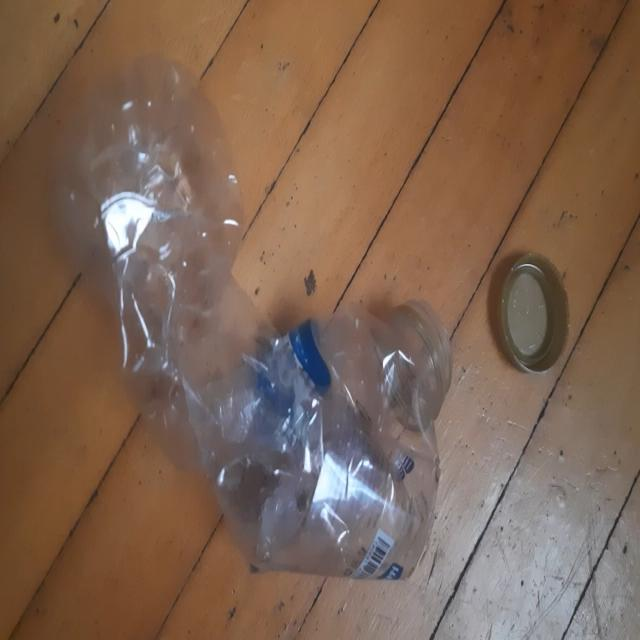Plastic: (59, 54, 451, 582), (489, 254, 570, 375)
